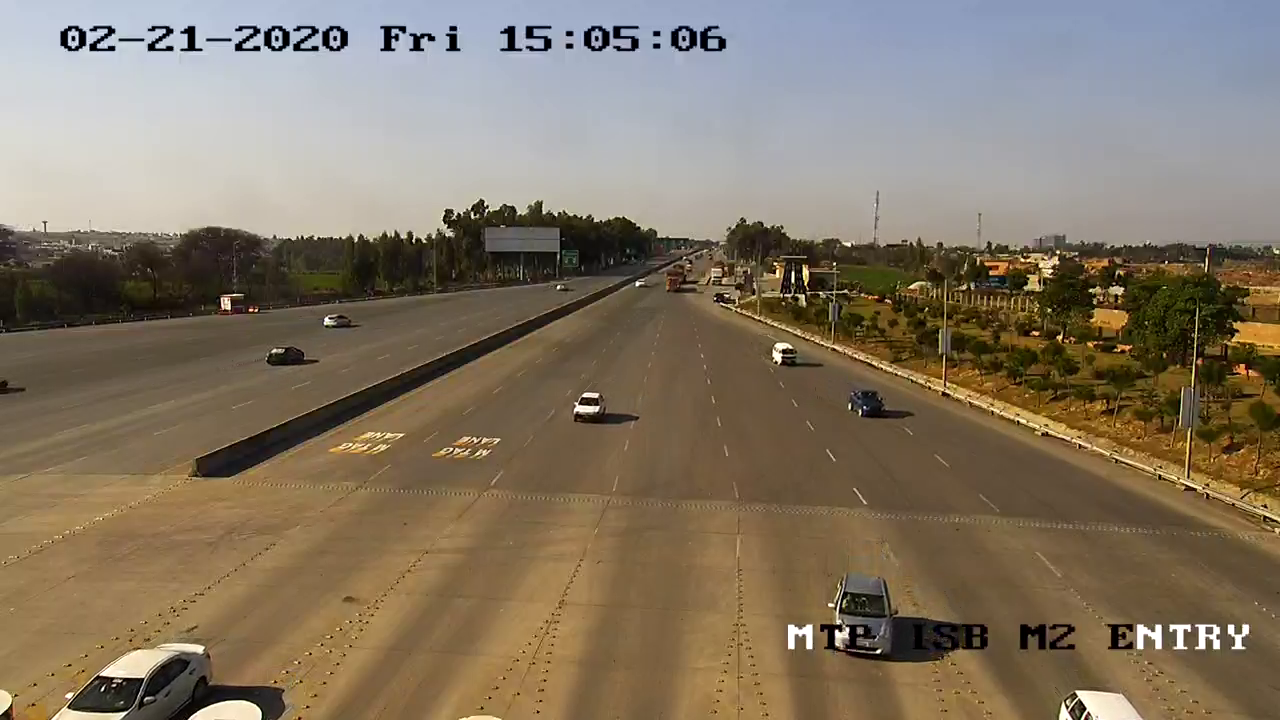f1: (842, 377, 891, 428), (563, 388, 616, 434)
